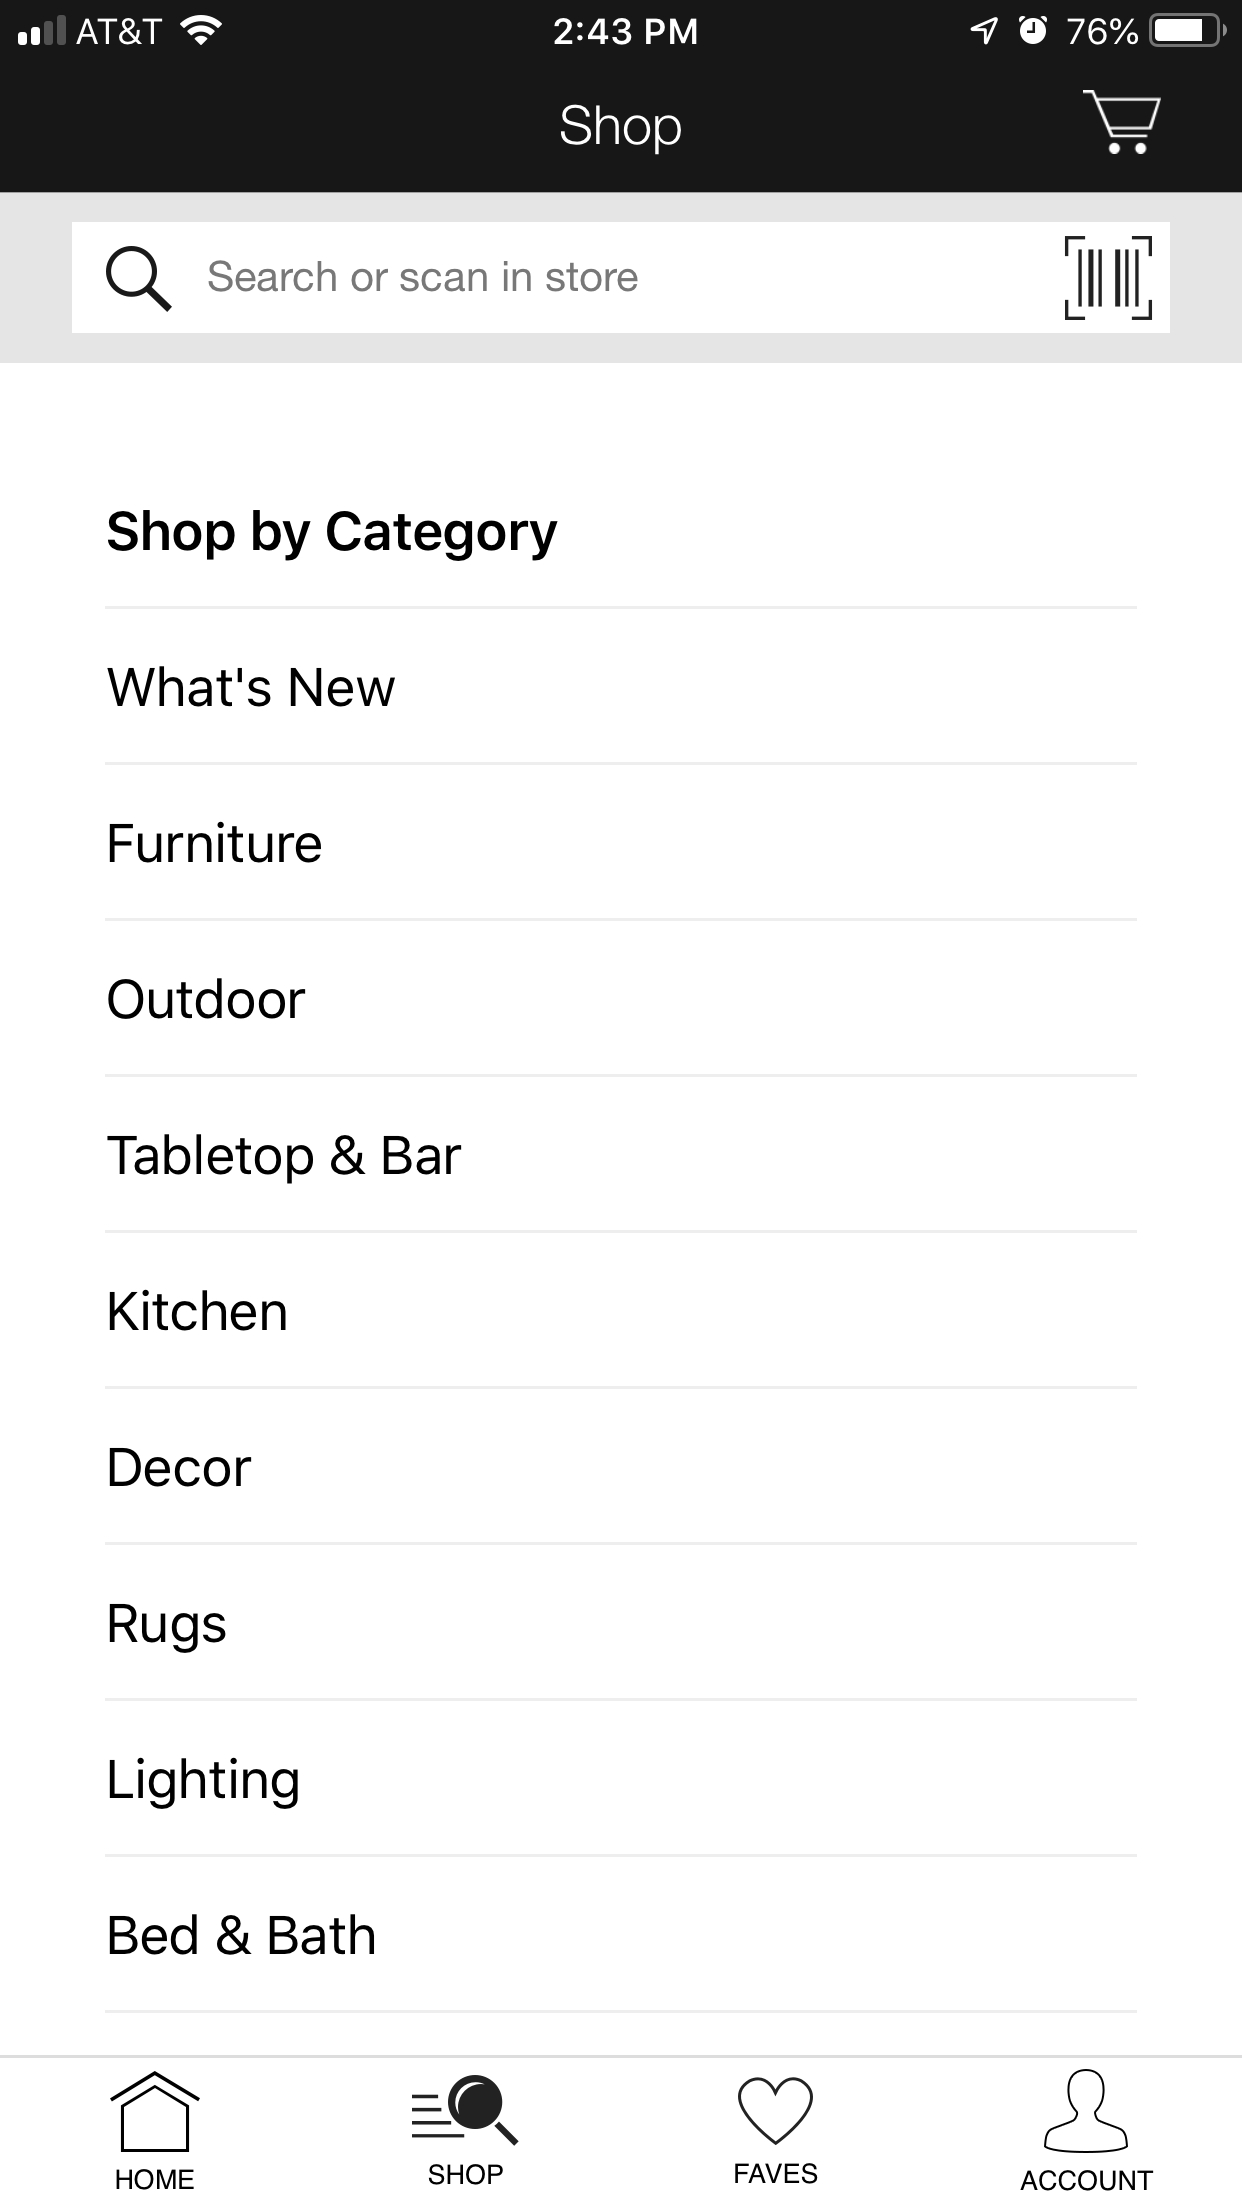EditText: (73, 223, 1171, 335)
Icon: (411, 2075, 520, 2147), (111, 2070, 202, 2153), (1065, 237, 1153, 321), (1043, 2068, 1128, 2153), (1081, 89, 1162, 156), (739, 2076, 814, 2146), (106, 246, 173, 314)
Text: (108, 510, 560, 563), (108, 1133, 463, 1184), (208, 259, 638, 294), (108, 666, 397, 708), (111, 1912, 376, 1956), (111, 1758, 300, 1811), (111, 820, 323, 864), (108, 978, 306, 1021), (109, 1289, 287, 1331), (561, 105, 682, 158), (109, 1603, 227, 1654), (111, 1447, 253, 1488), (1021, 2169, 1154, 2191), (734, 2163, 817, 2185), (115, 2169, 196, 2191), (428, 2163, 503, 2185)
UpperTaskBar: (2, 2, 1242, 49)
